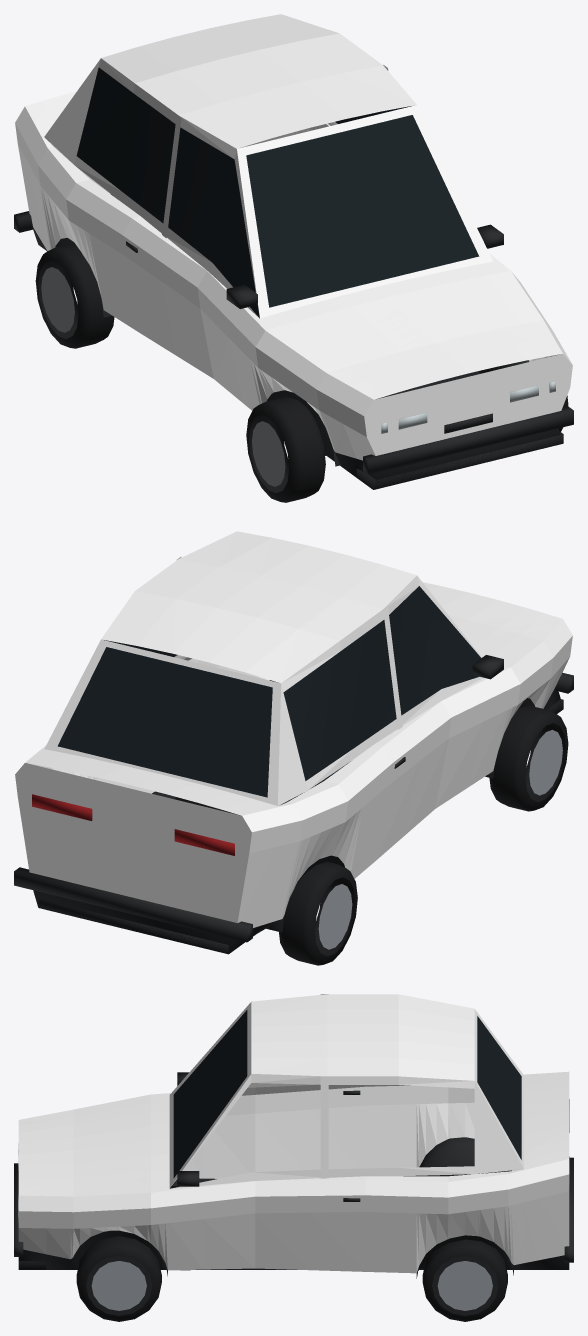
Rendered from hozuki_seixo.glb.
3 renders of one model, top to bottom at view 1: azimuth 30°, elevation 25°; view 2: azimuth 150°, elevation 25°; view 3: azimuth 270°, elevation 25°, orthographic. The views are drawn at different scales.
Parts seen in each view (by area): view 1: Body_Paint, Body_Details, Mount_FrontLeft_Wheel_Details, Mount_RearLeft_Wheel_Details; view 2: Body_Paint, Body_Details, Mount_FrontLeft_Wheel_Details, Mount_RearLeft_Wheel_Details; view 3: Body_Paint, Body_Details, Mount_FrontRight_Wheel_Details, Mount_RearRight_Wheel_Details.
Part boxes in pixels (left/top/right/bottom): Body_Paint: left=15, top=14, right=572, bottom=460; Body_Details: left=14, top=67, right=573, bottom=489; Mount_FrontLeft_Wheel_Details: left=246, top=396, right=325, bottom=502; Mount_RearLeft_Wheel_Details: left=35, top=244, right=114, bottom=348; Body_Paint: left=15, top=531, right=572, bottom=927; Body_Details: left=14, top=586, right=573, bottom=954; Mount_FrontLeft_Wheel_Details: left=489, top=705, right=568, bottom=811; Mount_RearLeft_Wheel_Details: left=279, top=862, right=357, bottom=965; Body_Paint: left=18, top=994, right=569, bottom=1273; Body_Details: left=14, top=1010, right=573, bottom=1278; Mount_FrontRight_Wheel_Details: left=76, top=1236, right=161, bottom=1321; Mount_RearRight_Wheel_Details: left=422, top=1239, right=507, bottom=1321.
Bounding box in the file's own units: 1.57 × 1.53 × 3.29.
Materials: 2 (1 with a texture image).
